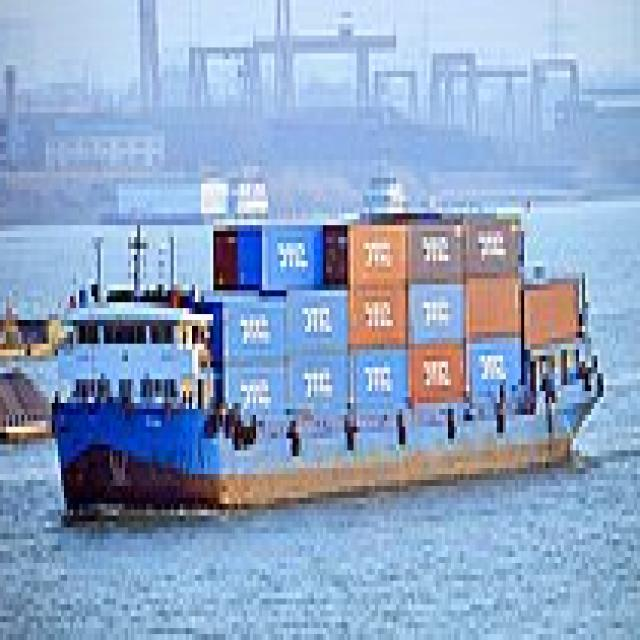Cargo: (52, 202, 609, 509)
